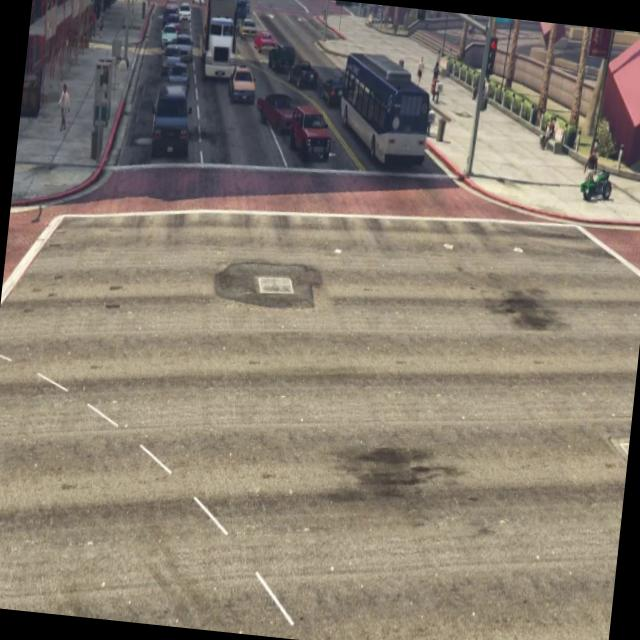Red-Signal: (478, 24, 508, 87), (403, 8, 434, 32), (324, 0, 358, 18)
